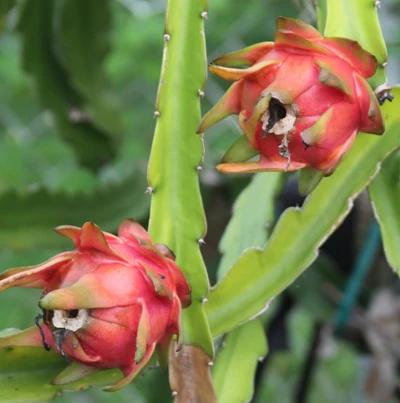dragon fruit: (0, 213, 210, 385), (194, 12, 395, 182)
